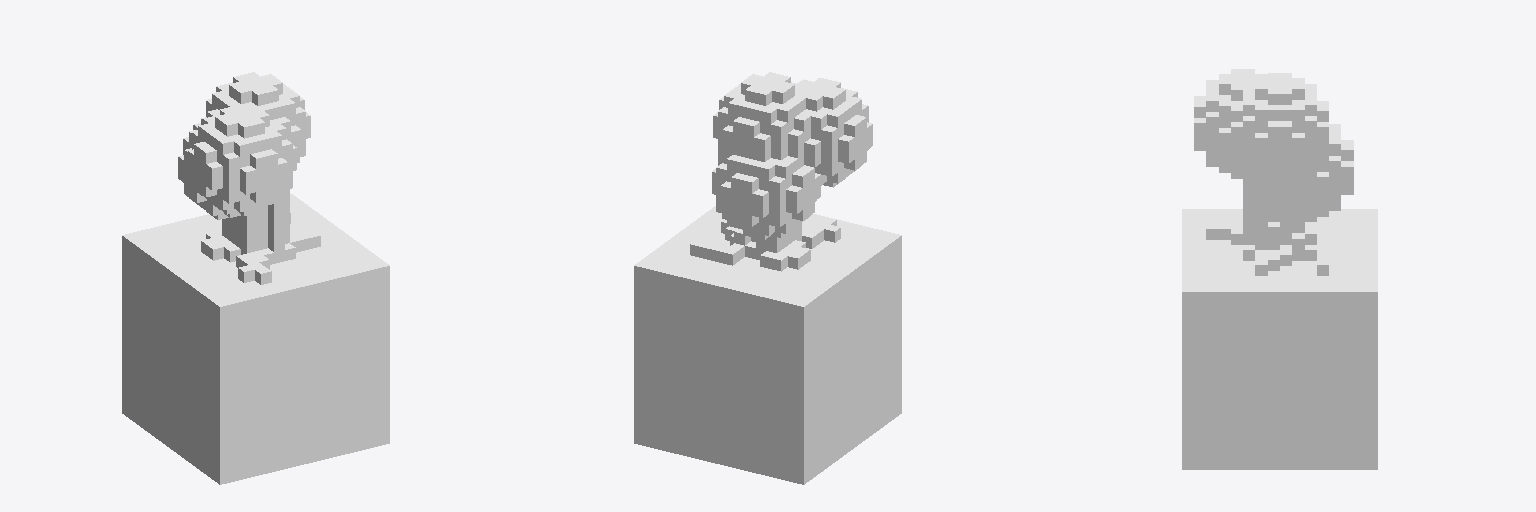
The model's file is WoodGenerator.obj.
The picture shows the model from 3 angles: view 1: azimuth 30°, elevation 25°; view 2: azimuth 150°, elevation 25°; view 3: azimuth 270°, elevation 25°; orthographic projection.
Parts seen in each view (by area): view 1: object 1; view 2: object 1; view 3: object 1.
Boxes of the visible parts, x1,y1,x2,y2 form: object 1: [122, 72, 389, 484]; object 1: [634, 72, 901, 484]; object 1: [1182, 69, 1377, 469].
Bounding box in the file's own units: 1.6 × 3.1 × 1.6.